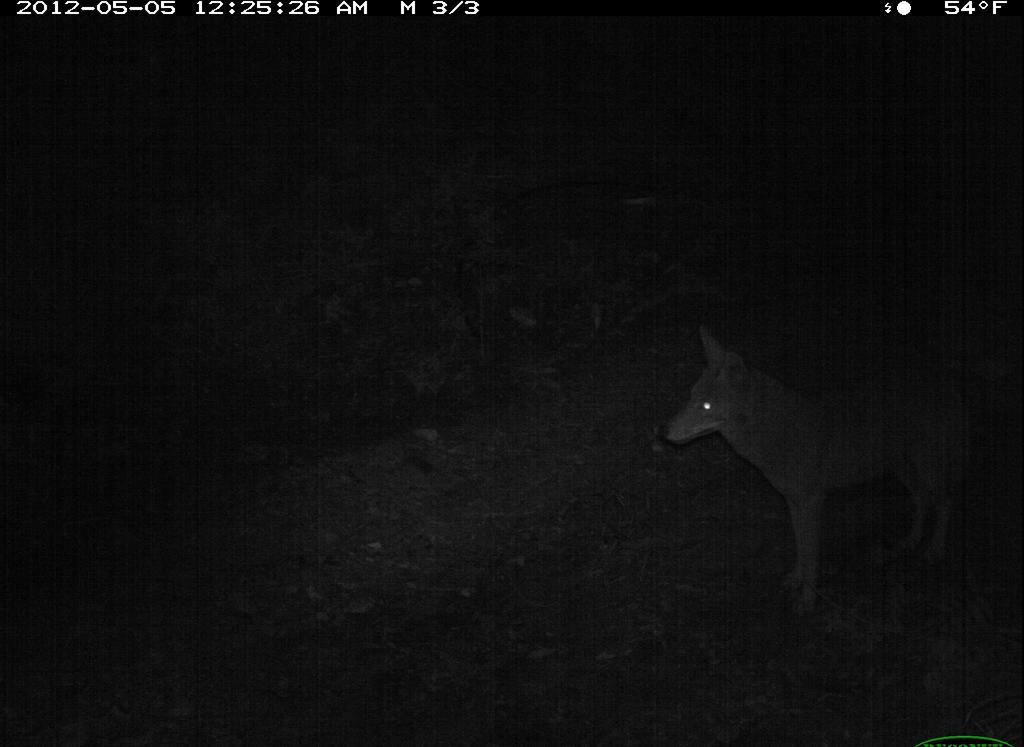coyote: (649, 313, 1022, 588)
